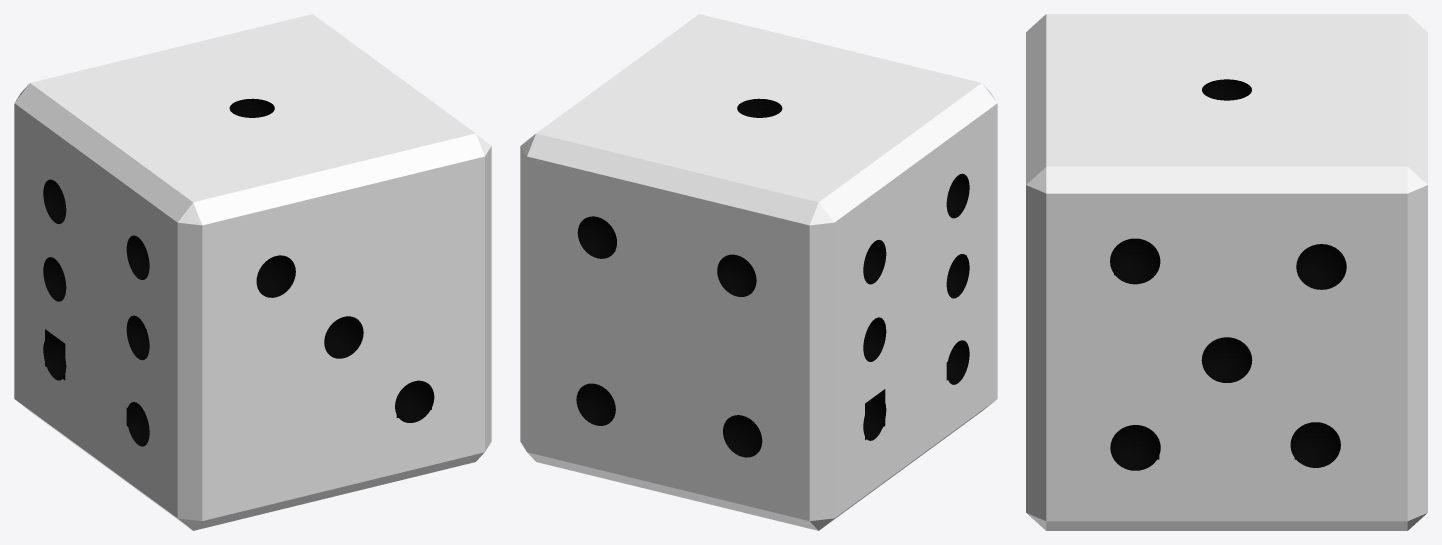
The model's file is dice.obj.
3 views of the same model, side by side, from view 1: azimuth 30°, elevation 25°; view 2: azimuth 150°, elevation 25°; view 3: azimuth 270°, elevation 25° (orthographic). The views are drawn at different scales.
Visible parts, largest first — view 1: Die_2_Cube.001; view 2: Die_2_Cube.001; view 3: Die_2_Cube.001.
Part boxes in pixels (x1,y1,x2,y2): Die_2_Cube.001: [14, 14, 491, 530]; Die_2_Cube.001: [520, 14, 997, 530]; Die_2_Cube.001: [1026, 14, 1427, 530].
Bounding box in the file's own units: 2 × 2 × 2.
2 materials, 2 textured.
